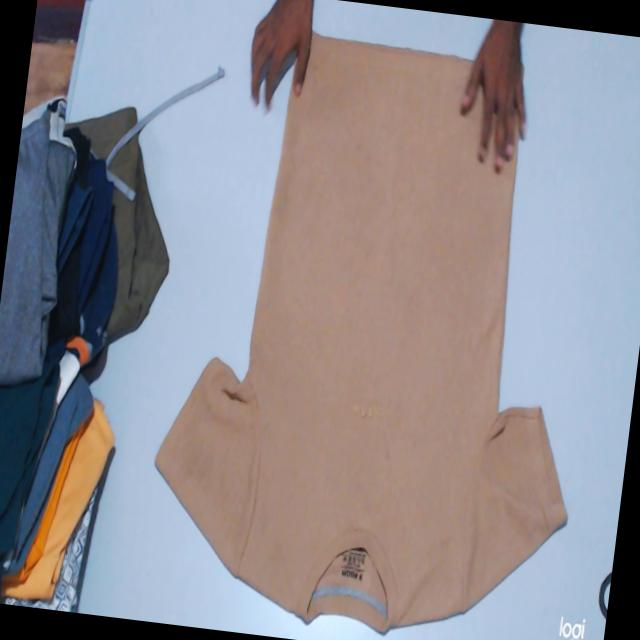new-garment: (157, 36, 566, 631)
